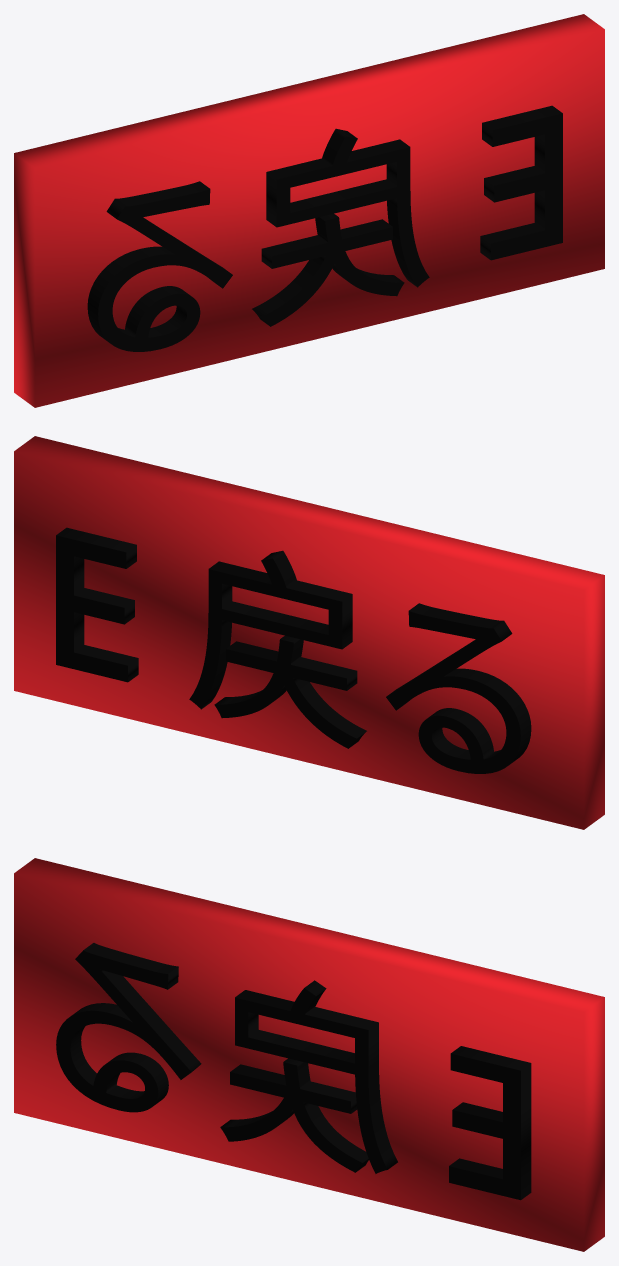
File: Back_UI.obj
3 renders of one model, top to bottom at view 1: azimuth 30°, elevation 25°; view 2: azimuth 150°, elevation 25°; view 3: azimuth 330°, elevation 25°, orthographic.
Visible parts, largest first — view 1: 立方体.001; view 2: 立方体.001; view 3: 立方体.001.
Boxes of the visible parts, x1=… form: 立方体.001: x1=14, y1=14, x2=604, y2=407; 立方体.001: x1=14, y1=436, x2=604, y2=829; 立方体.001: x1=14, y1=858, x2=604, y2=1251.
Bounding box in the file's own units: 15.69 × 6.3 × 2.
